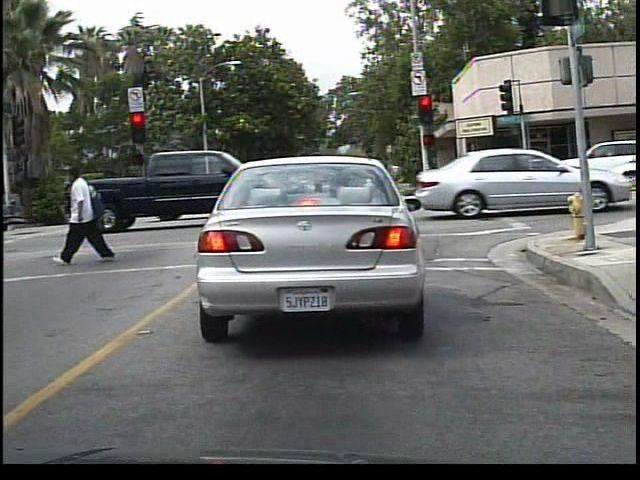person: (62, 158, 114, 262)
